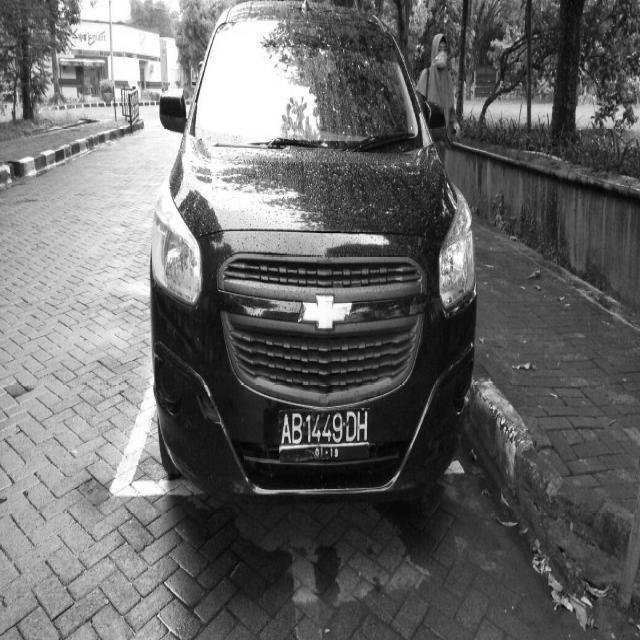1: (305, 414, 312, 445)
4: (322, 414, 332, 447), (313, 414, 322, 444)
9: (331, 412, 344, 442)
A: (280, 414, 292, 443)
B: (291, 412, 303, 442)
D: (344, 408, 358, 449)
H: (356, 412, 369, 440)
